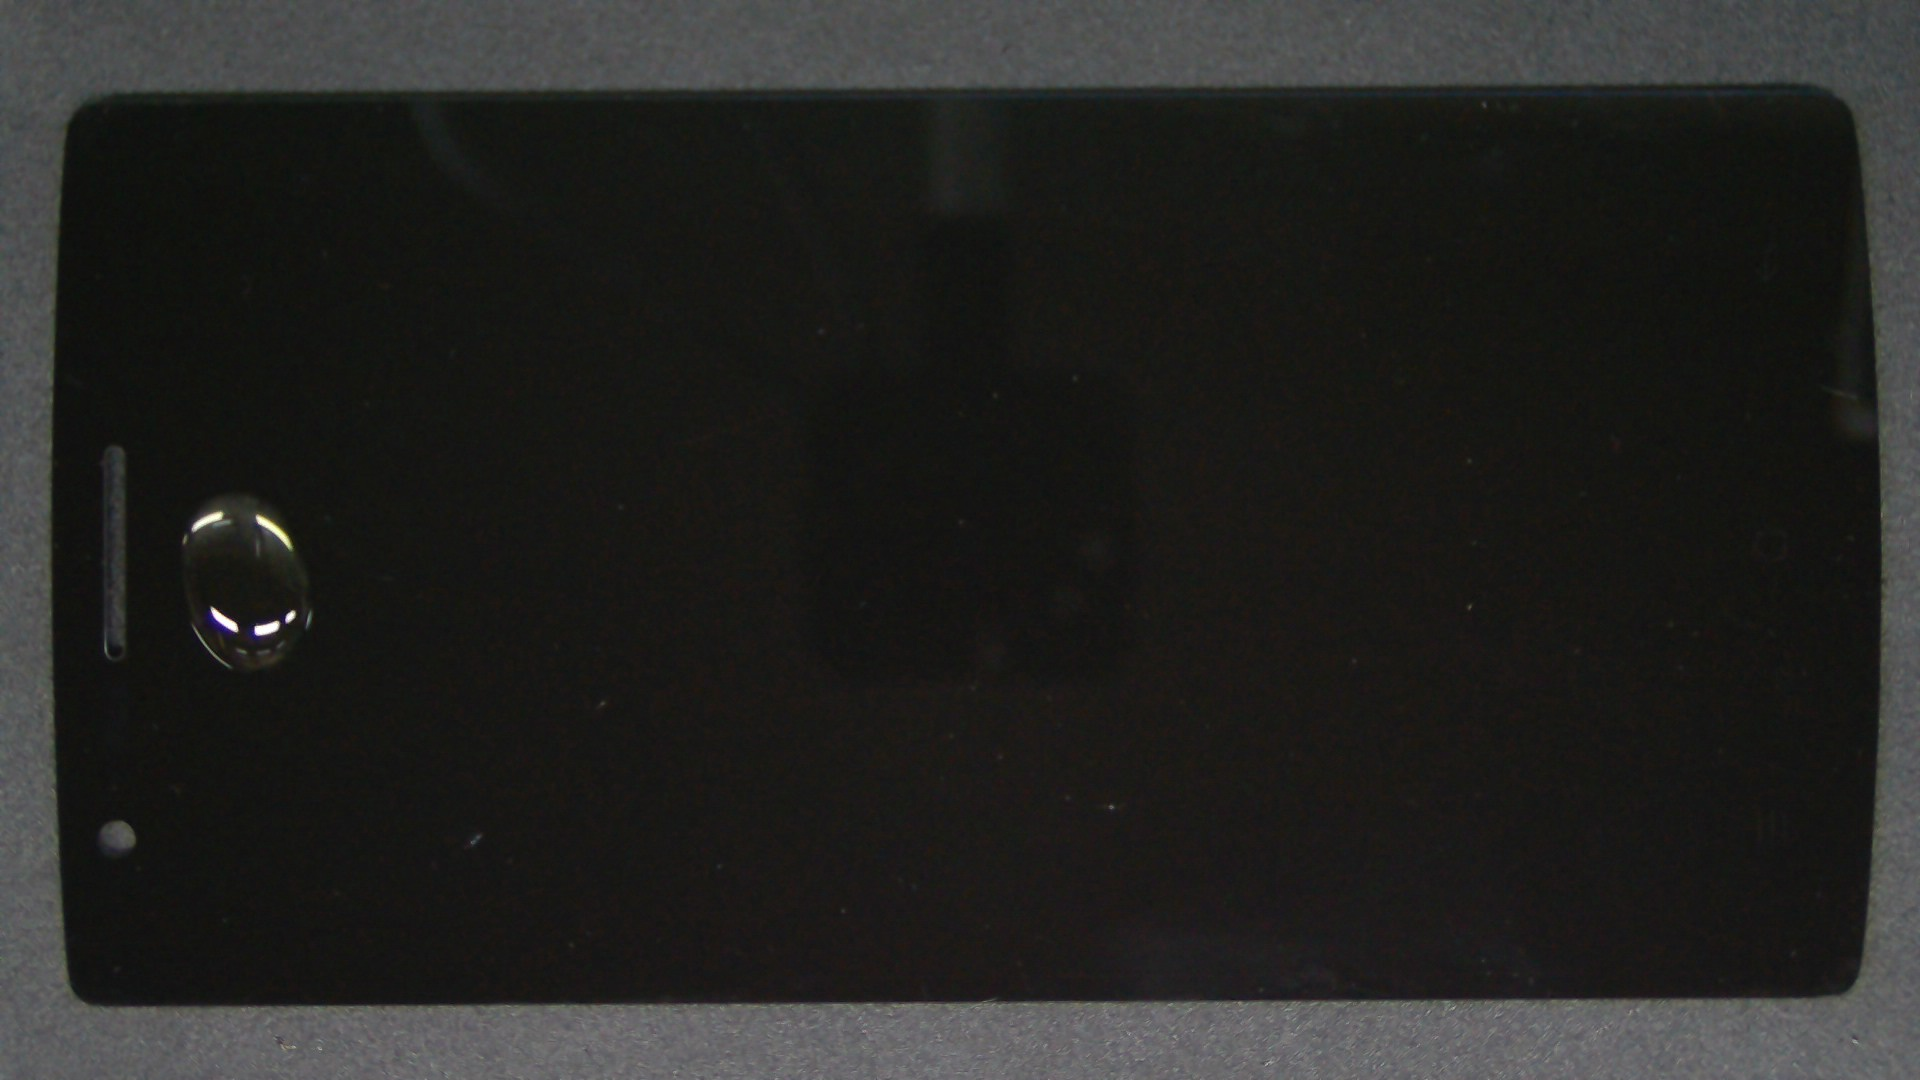oil: (116, 248, 344, 745)
